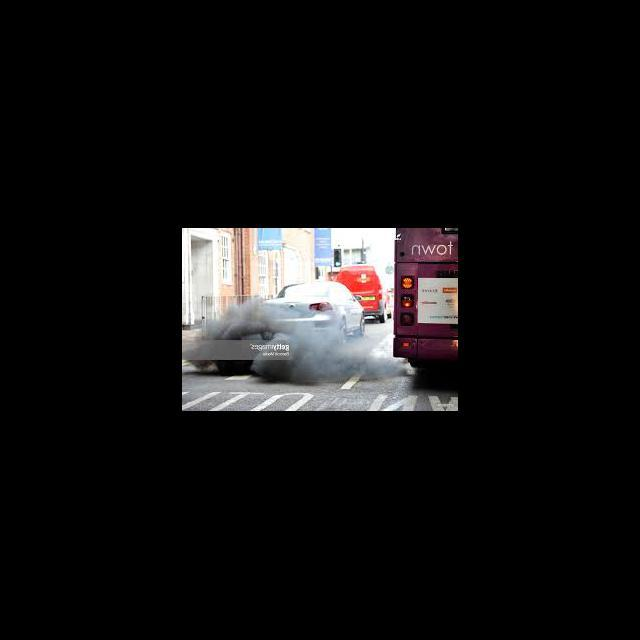Smoke: (196, 303, 408, 382)
